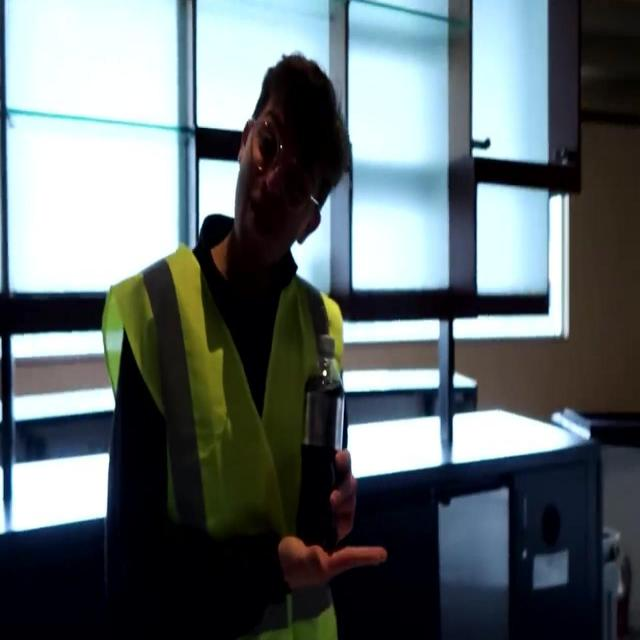Reflective-Jacket: (96, 242, 362, 630)
